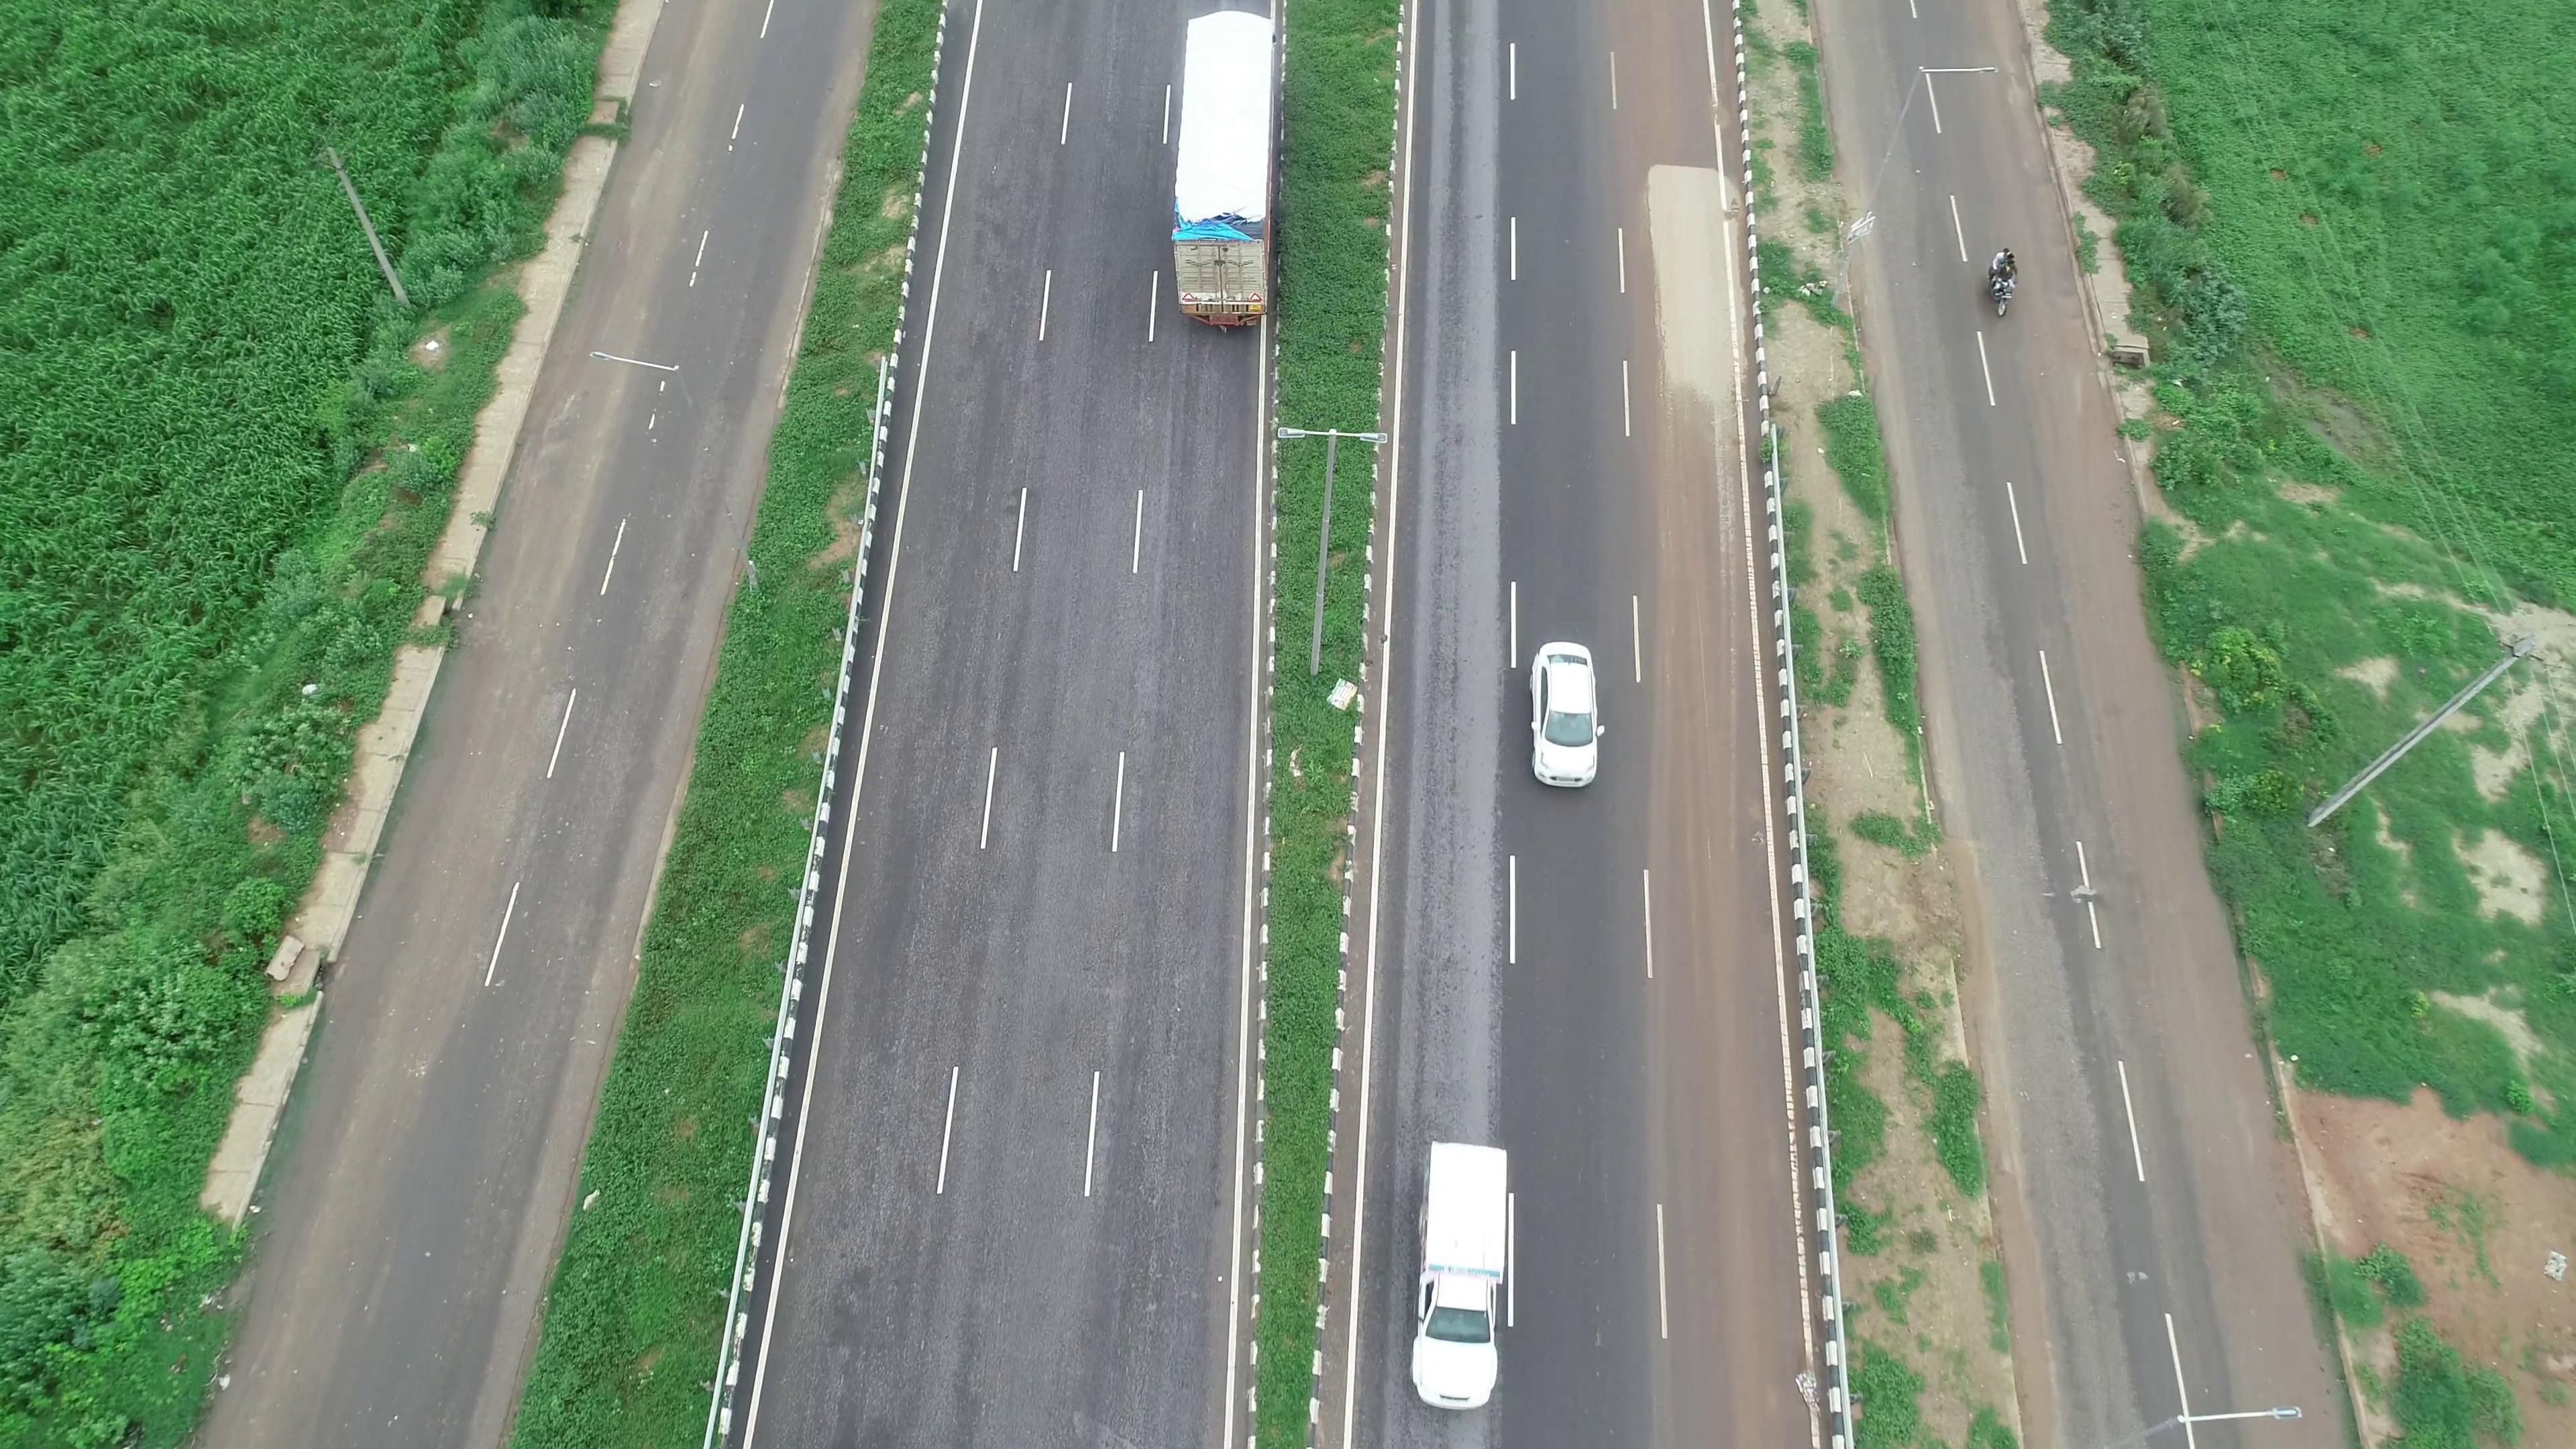Muddy_road: (1626, 418, 1764, 975), (1638, 989, 1794, 1440)
